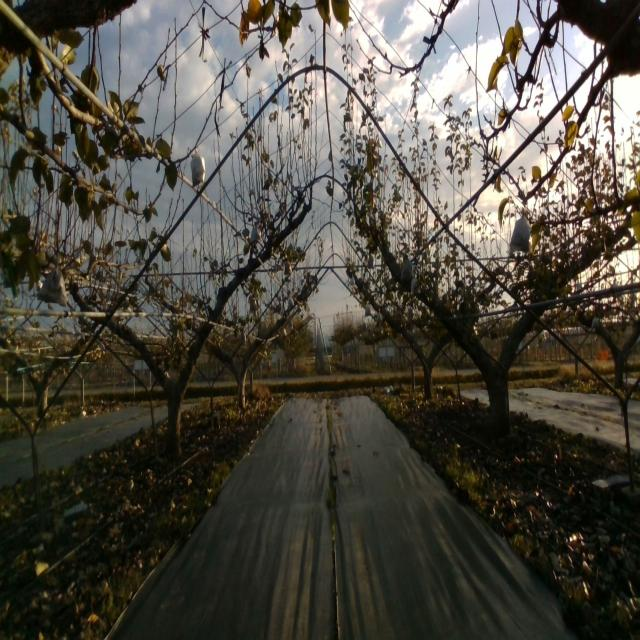pearbags: (509, 207, 531, 253), (190, 147, 205, 188), (249, 221, 265, 248), (400, 255, 413, 282)
